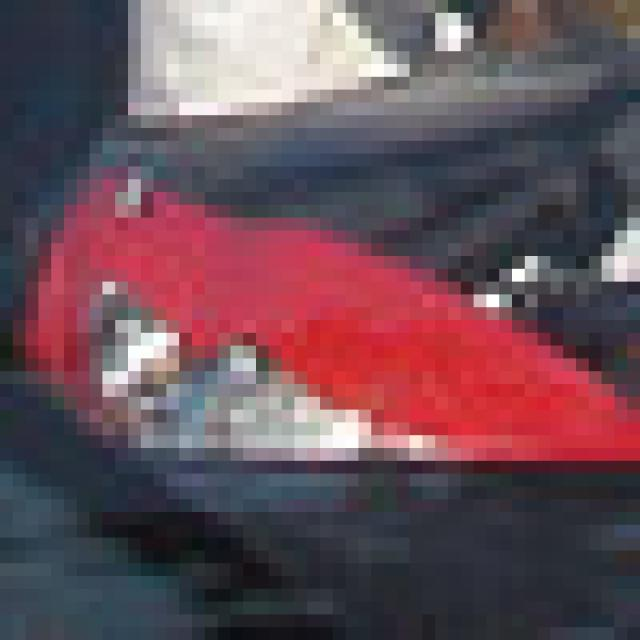no_fire: (26, 59, 640, 640)
